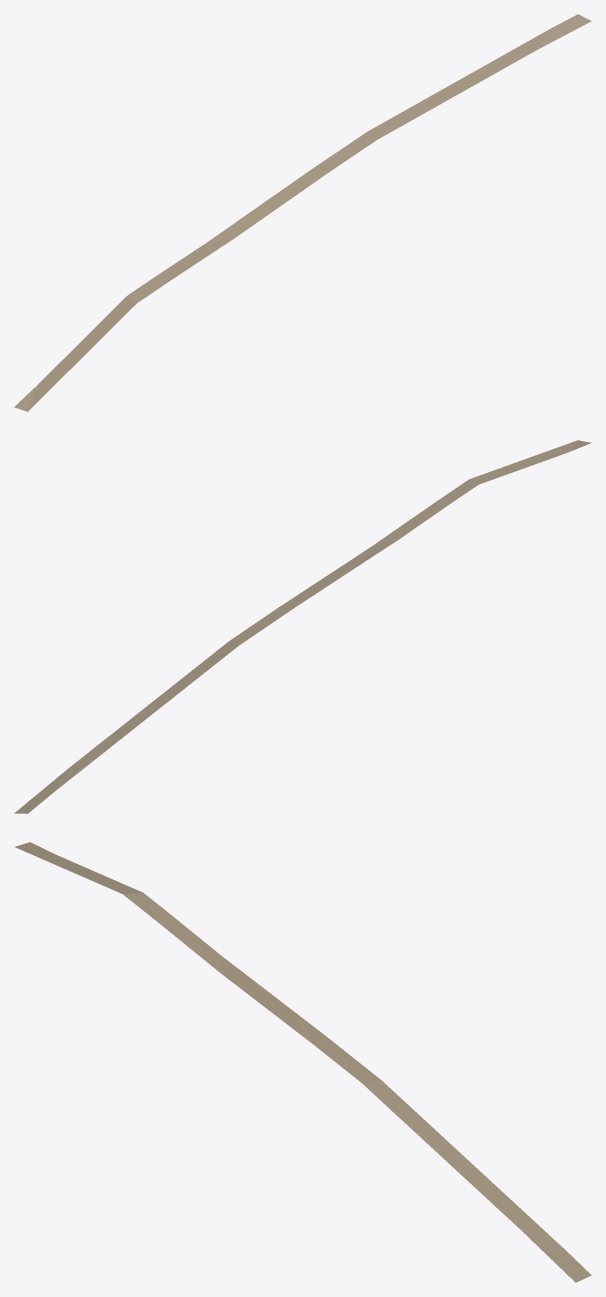
File: farm_-14_-24_track.glb
3 views of the same model, one above another, from view 1: azimuth 30°, elevation 25°; view 2: azimuth 210°, elevation 25°; view 3: azimuth 270°, elevation 25° (orthographic). The views are drawn at different scales.
Parts seen in each view (by area): view 1: geometry_0; view 2: geometry_0; view 3: geometry_0.
Part boxes in pixels (<box>): geometry_0: <box>14,14,591,411</box>; geometry_0: <box>14,440,591,813</box>; geometry_0: <box>14,842,591,1282</box>.
Size of the model in its own units: 190 by 8.25 by 103.
